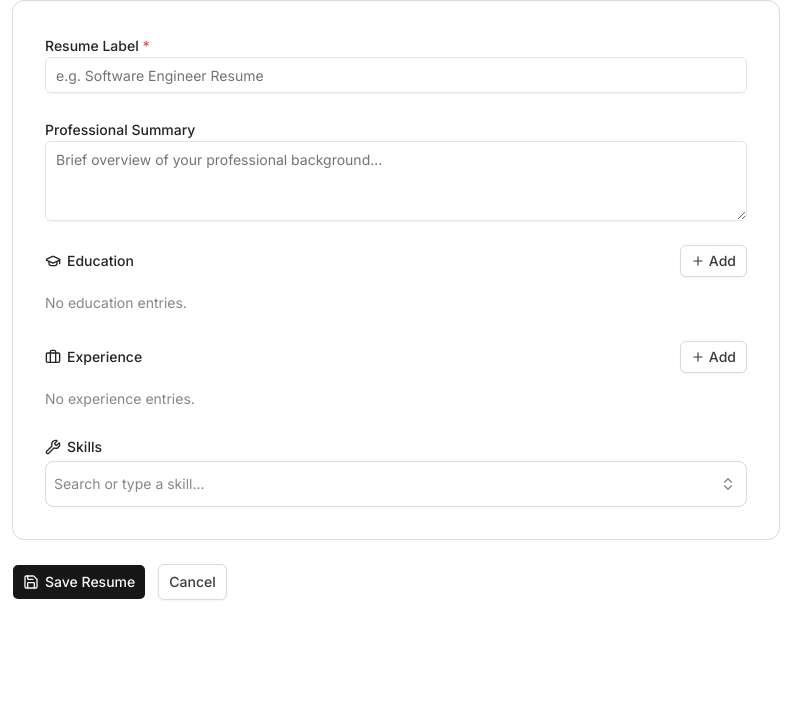
Test: ResumeBuilderForm › adds an education entry when Add is clicked
Click the 1st button "Add": (713, 261) [680, 245, 747, 277]
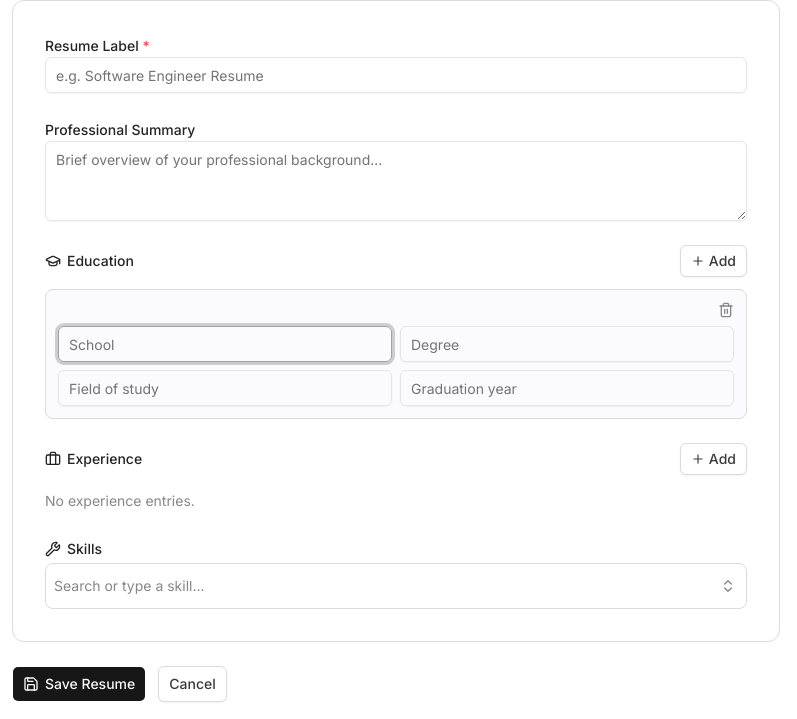
Now the field with placeholder "School" is shown, box [58, 326, 392, 362]
Now the text "No education entries." is gone
